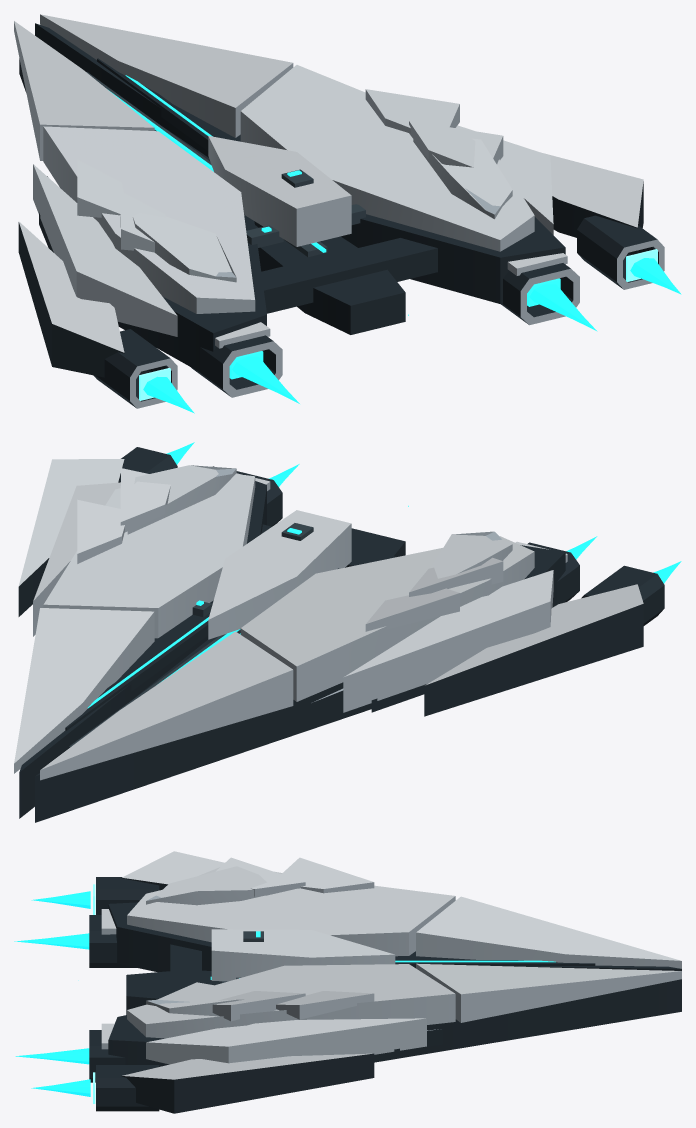
File: 05_schlachtschiff.glb
The picture shows the model from 3 angles, top to bottom: view 1: azimuth 30°, elevation 25°; view 2: azimuth 150°, elevation 25°; view 3: azimuth 270°, elevation 25°; orthographic projection. The views are drawn at different scales.
Visible parts, largest first — view 1: Hull, energy_1, energy_2; view 2: Hull; view 3: Hull, energy_1, energy_2.
Boxes of the visible parts, x1=… form: Hull: x1=14, y1=14, x2=681, y2=413; energy_1: x1=229, y1=351, x2=299, y2=403; energy_2: x1=527, y1=278, x2=597, y2=331; Hull: x1=14, y1=442, x2=681, y2=822; Hull: x1=31, y1=851, x2=681, y2=1113; energy_1: x1=14, y1=933, x2=89, y2=949; energy_2: x1=15, y1=1048, x2=89, y2=1064.
Size of the model in its own units: 19 by 3.33 by 23.48.
